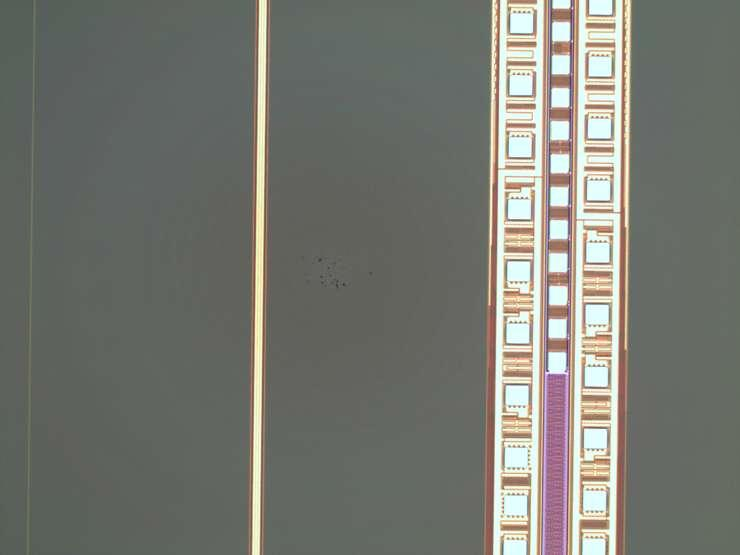PIQ PARTICLE: (283, 237, 396, 311)
